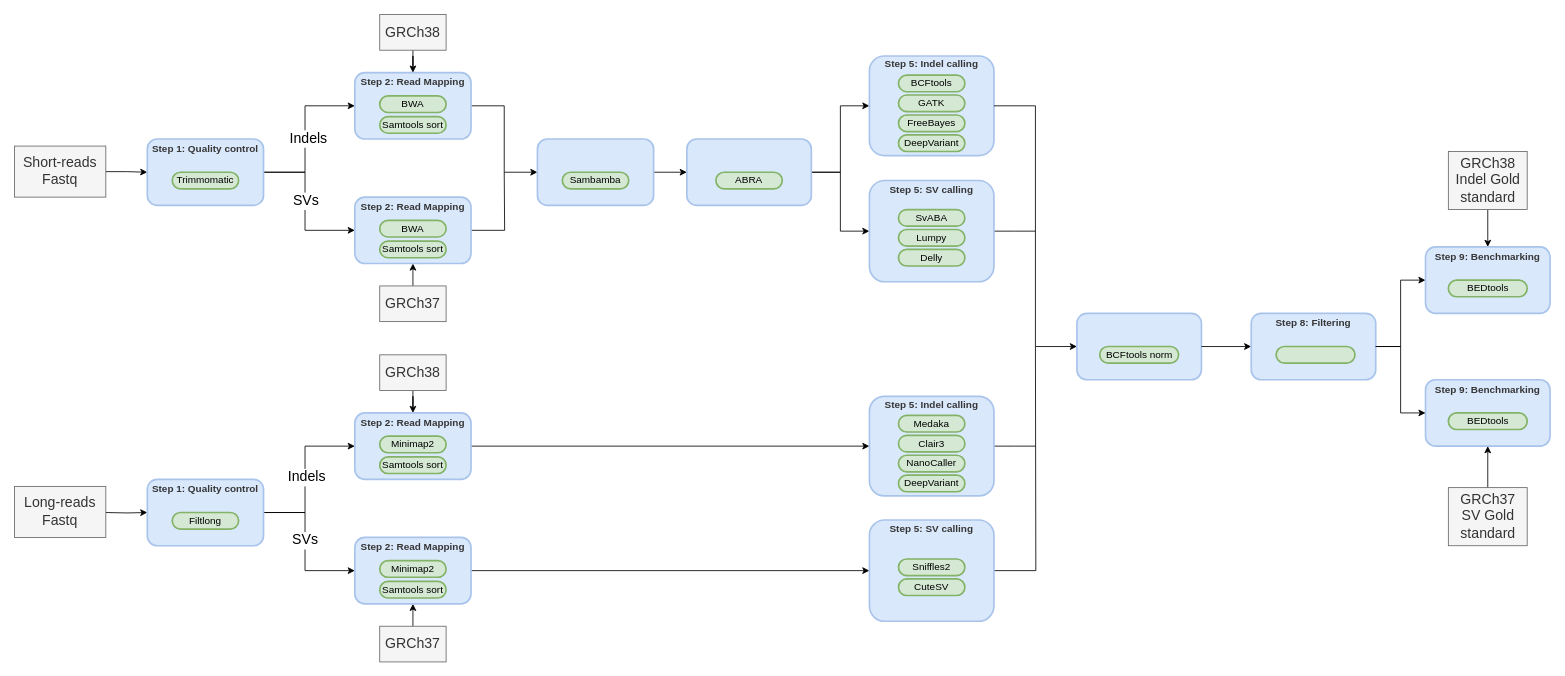
This 1565x676 diagram has some shape labels left out. Each missing label, with the box of its shape:
BCFtools filt: (1275, 345, 1355, 364)
Step 3: Mark Duplicates: (536, 138, 654, 206)
Step 4: Indel realignment: (686, 138, 812, 206)
Step 6: Normalization: (1076, 312, 1202, 380)
